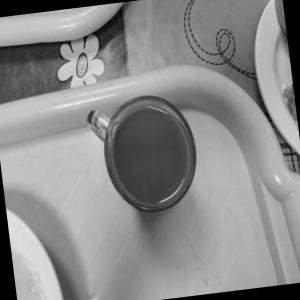coffee: (74, 81, 220, 230)
